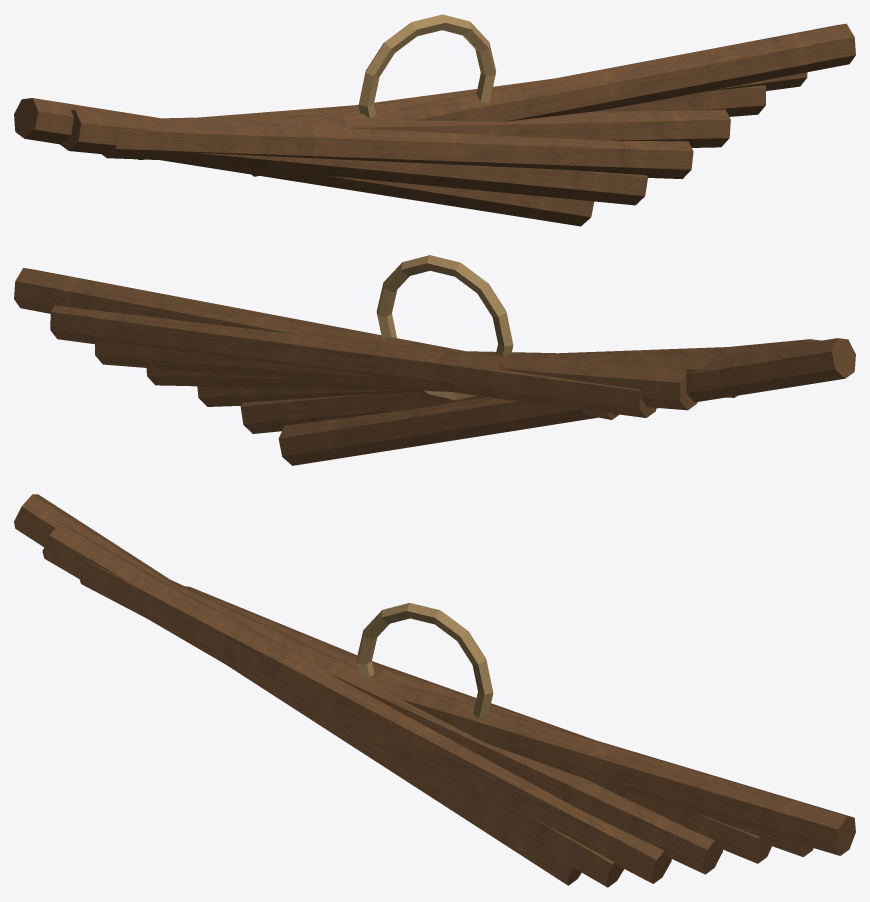
Rendered from en-018_storage_corner_set__poles.obj.
The picture shows the model from 3 angles, top to bottom: view 1: azimuth 30°, elevation 25°; view 2: azimuth 150°, elevation 25°; view 3: azimuth 330°, elevation 25°; orthographic projection.
Visible parts, largest first — view 1: en-018_storage_corner_set__poles; view 2: en-018_storage_corner_set__poles; view 3: en-018_storage_corner_set__poles.
Part boxes in pixels (x1,y1,x2,y2): en-018_storage_corner_set__poles: (14,14,855,226); en-018_storage_corner_set__poles: (14,255,855,465); en-018_storage_corner_set__poles: (14,494,855,887).
Bounding box in the file's own units: 1.61 × 0.4796 × 0.1262.
2 materials, 2 textured.
